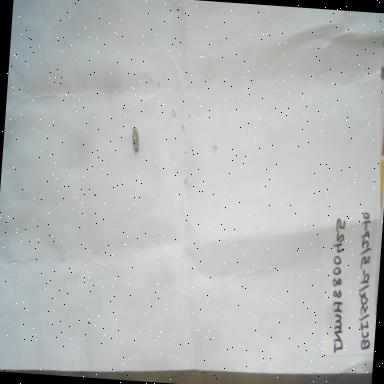pbw: (122, 120, 148, 161)
